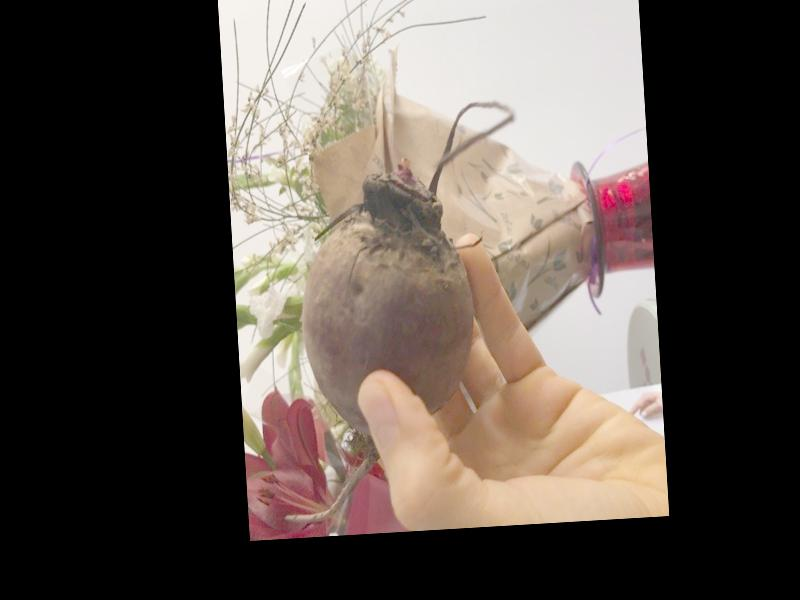Beet: (263, 98, 537, 521)
